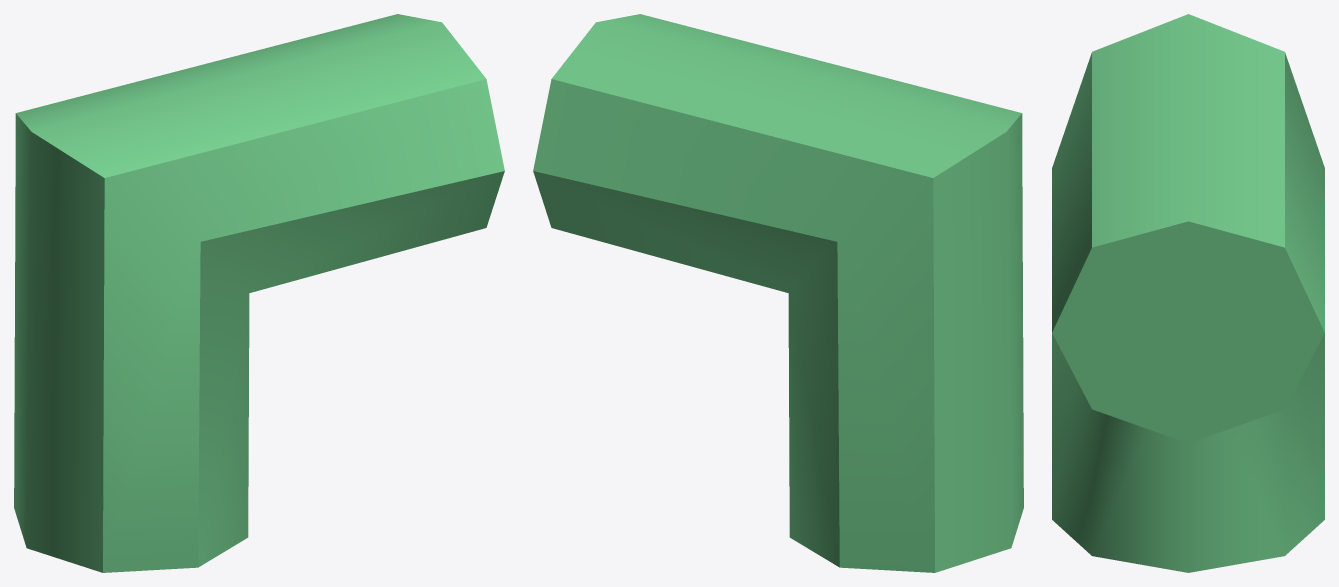
File: Pipe_Thick_Bend90_COL.fbx
The picture shows the model from 3 angles, left to right: view 1: azimuth 30°, elevation 25°; view 2: azimuth 150°, elevation 25°; view 3: azimuth 270°, elevation 25°; orthographic projection. The views are drawn at different scales.
Visible parts, largest first — view 1: Pipe_Thick_Bend90_COL; view 2: Pipe_Thick_Bend90_COL; view 3: Pipe_Thick_Bend90_COL.
Boxes of the visible parts, x1=… form: Pipe_Thick_Bend90_COL: x1=14, y1=14, x2=504, y2=572; Pipe_Thick_Bend90_COL: x1=533, y1=14, x2=1023, y2=572; Pipe_Thick_Bend90_COL: x1=1052, y1=14, x2=1324, y2=572.
Bounding box in the file's own units: 525 × 513 × 275.
